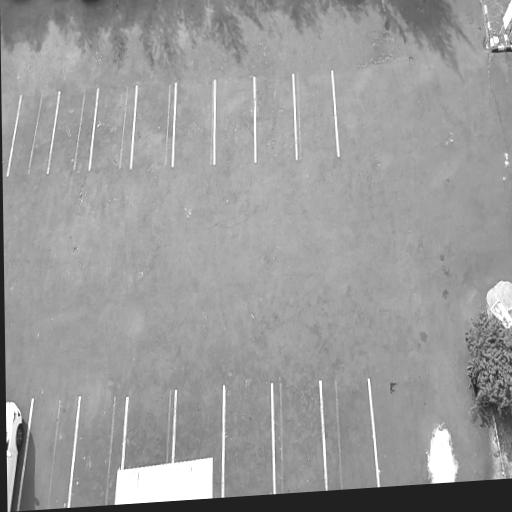Car: (6, 397, 32, 512)
Space Available: (19, 398, 80, 510), (68, 396, 125, 508), (321, 379, 379, 489), (272, 382, 327, 492), (224, 385, 276, 498), (8, 90, 59, 173), (123, 390, 176, 469), (88, 86, 137, 171), (48, 88, 97, 171), (293, 72, 339, 159), (130, 82, 176, 168), (174, 387, 225, 462), (172, 80, 215, 165), (254, 71, 296, 158), (214, 77, 254, 164), (1, 91, 22, 178)
